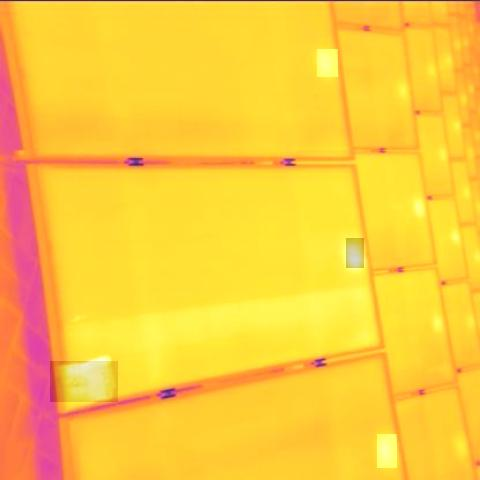fault: (50, 361, 118, 402), (377, 434, 398, 468), (317, 50, 338, 78), (346, 238, 364, 268)
